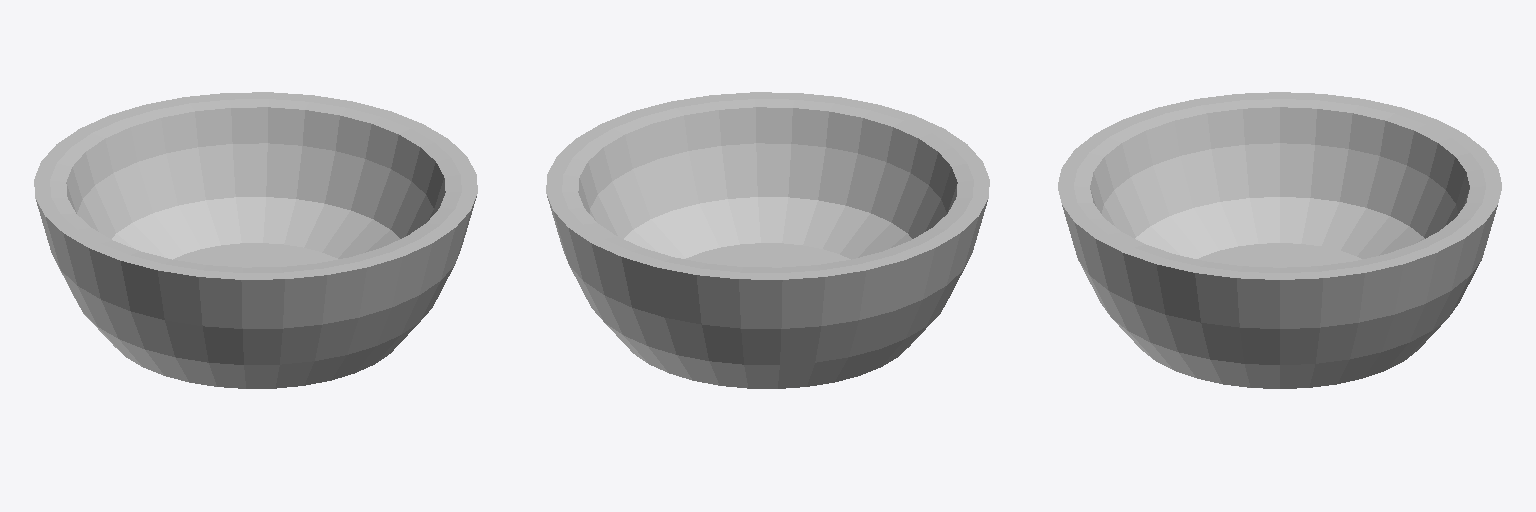
Rendered from Bowl.obj.
The picture shows the model from 3 angles: view 1: azimuth 30°, elevation 25°; view 2: azimuth 150°, elevation 25°; view 3: azimuth 270°, elevation 25°; orthographic projection.
Parts seen in each view (by area): view 1: Cylinder; view 2: Cylinder; view 3: Cylinder.
Part boxes in pixels (left/top/right/bottom): Cylinder: left=34, top=92, right=477, bottom=388; Cylinder: left=546, top=92, right=989, bottom=388; Cylinder: left=1058, top=92, right=1501, bottom=388.
Size of the model in its own units: 2.97 by 1.03 by 2.97.